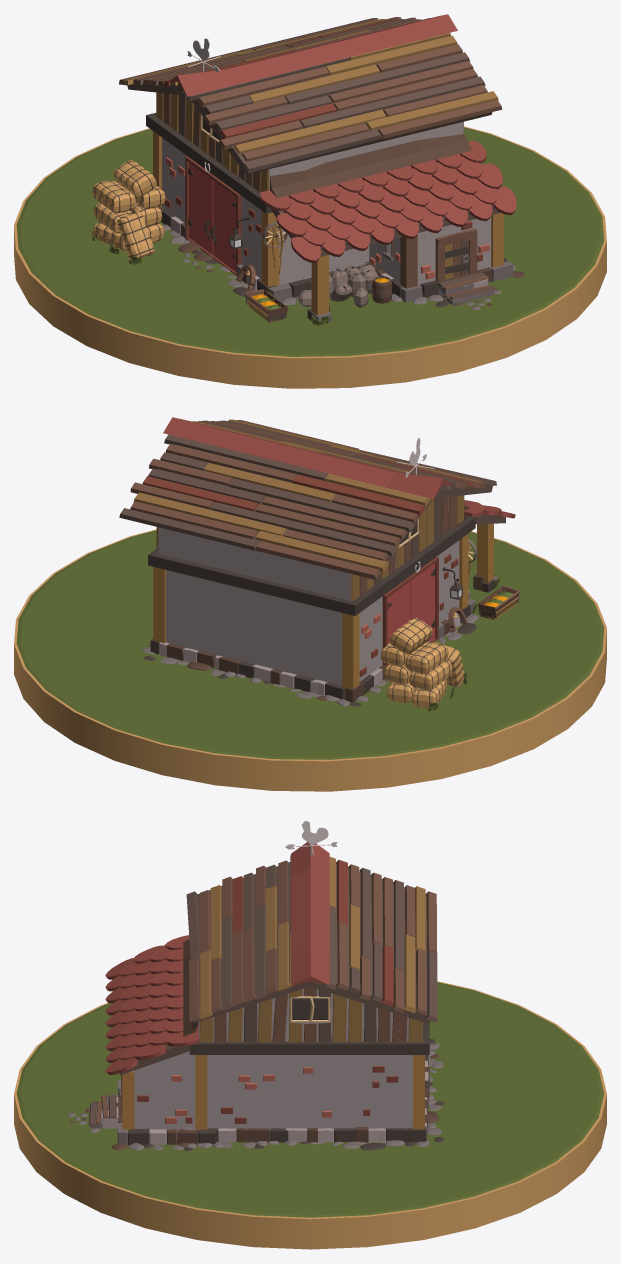
The model's file is barn.fbx.
3 views of the same model, one above another, from view 1: azimuth 30°, elevation 25°; view 2: azimuth 150°, elevation 25°; view 3: azimuth 270°, elevation 25° (orthographic).
Visible parts, largest first — view 1: Cylinder.002, Cylinder.009, Cube.020, Cube.089, Cube.335, Cube.235, door, Cube.398, Cube.090, Cube.325, Cube.126, Cube.219 (+28 smaller); view 2: Cylinder.002, Cube.089, Cylinder.009, Cube.335, Cube.325, Cube.398, door, Cube.094, Cube.106, Cube.112, Cube.109, Cube.114 (+27 smaller); view 3: Cylinder.002, Cylinder.009, Cube.089, Cube.020, Cube.238, Cube.335, Cube.090, Cube.325, Cube.239, Cube.126, Cube.219, Cube.094 (+30 smaller).
Boxes of the visible parts, x1,y1,x2,y2 form: Cylinder.002: (16, 127, 604, 356); Cylinder.009: (14, 126, 606, 388); Cube.020: (260, 140, 516, 262); Cube.089: (162, 94, 491, 285); Cube.335: (168, 14, 457, 96); Cube.235: (270, 134, 471, 197); door: (188, 163, 236, 271); Cube.398: (156, 92, 268, 192); Cube.090: (127, 55, 492, 174); Cube.325: (146, 113, 272, 213); Cube.126: (284, 52, 470, 104); Cube.219: (299, 76, 485, 128); Cylinder.002: (16, 530, 604, 759); Cube.089: (157, 497, 459, 685); Cylinder.009: (14, 529, 606, 791); Cube.335: (163, 417, 452, 498); Cube.325: (148, 516, 475, 615); Cube.398: (350, 495, 464, 600); door: (387, 563, 435, 664); Cube.094: (228, 478, 415, 532); Cube.106: (210, 502, 397, 555); Cube.112: (119, 508, 258, 550); Cube.109: (133, 492, 286, 535); Cube.114: (164, 434, 328, 480); Cylinder.002: (16, 982, 604, 1217); Cylinder.009: (14, 981, 606, 1249); Cube.089: (132, 989, 422, 1139); Cube.020: (105, 935, 198, 1074); Cube.238: (199, 986, 422, 1042); Cube.335: (291, 842, 329, 985); Cube.090: (190, 862, 430, 1023); Cube.325: (189, 1022, 429, 1054); Cube.239: (289, 996, 330, 1022); Cube.126: (255, 904, 266, 999); Cube.219: (222, 915, 233, 1010); Cube.094: (359, 867, 370, 960).
Size of the model in its own units: 530 by 248 by 530.
